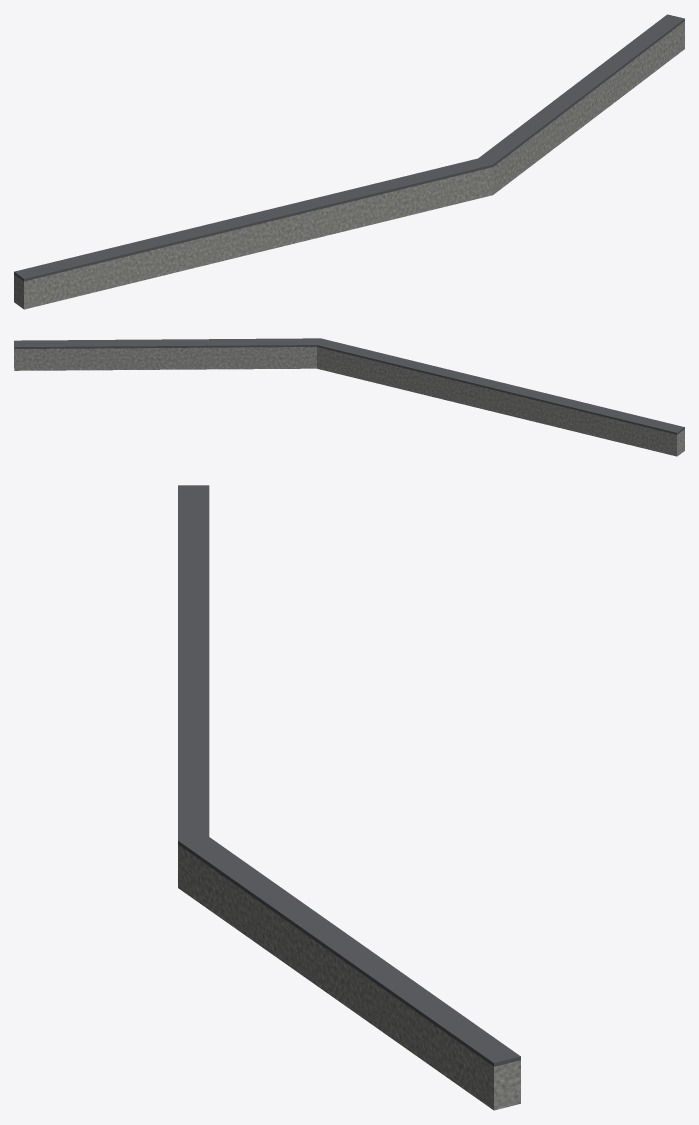
3 views of the same model, one above another, from view 1: azimuth 30°, elevation 25°; view 2: azimuth 150°, elevation 25°; view 3: azimuth 270°, elevation 25° (orthographic). The views are drawn at different scales.
Visible parts, largest first — view 1: water.drainage_channel (×2); view 2: water.drainage_channel (×2); view 3: water.drainage_channel (×2).
Part boxes in pixels (<box>): water.drainage_channel (×2): <box>14,14,684,309</box>; water.drainage_channel (×2): <box>14,338,684,456</box>; water.drainage_channel (×2): <box>178,485,520,1110</box>.
Size of the model in its own units: 6.54 by 1.64 by 0.25.
3 materials, 1 textured.
